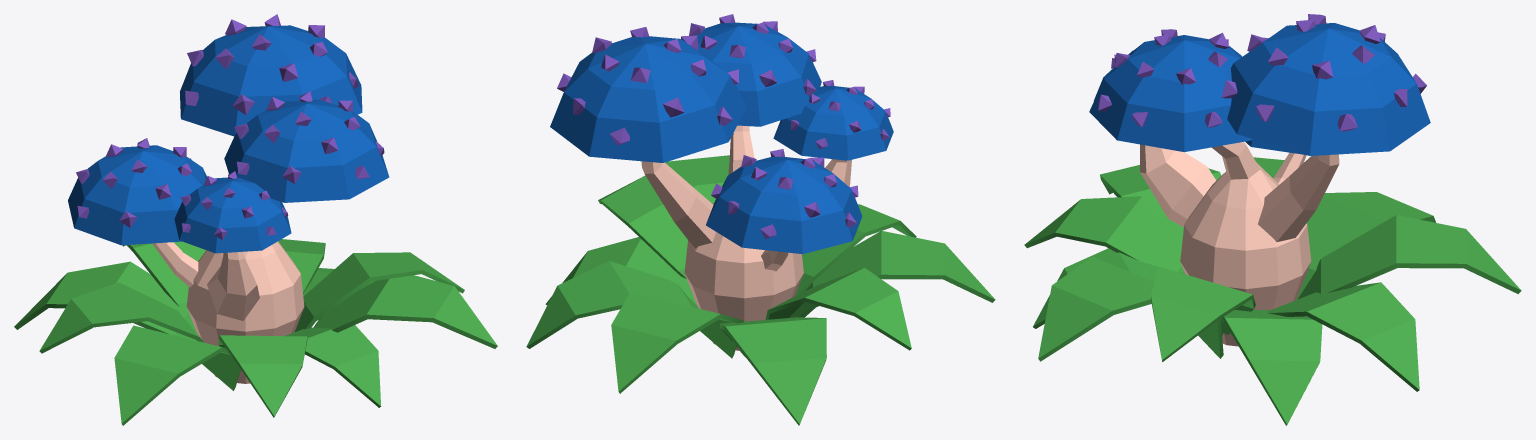
Rendered from fantasy_plant_054.fbx.
3 views of the same model, side by side, from view 1: azimuth 30°, elevation 25°; view 2: azimuth 150°, elevation 25°; view 3: azimuth 270°, elevation 25° (orthographic). The views are drawn at different scales.
Visible parts, largest first — view 1: fantasy_plant.054; view 2: fantasy_plant.054; view 3: fantasy_plant.054.
Part boxes in pixels (bbox=[...]): fantasy_plant.054: bbox=[14, 14, 497, 425]; fantasy_plant.054: bbox=[526, 14, 995, 425]; fantasy_plant.054: bbox=[1024, 14, 1521, 425].
Bounding box in the file's own units: 460 × 379 × 484.
Materials: 1 (1 with a texture image).
